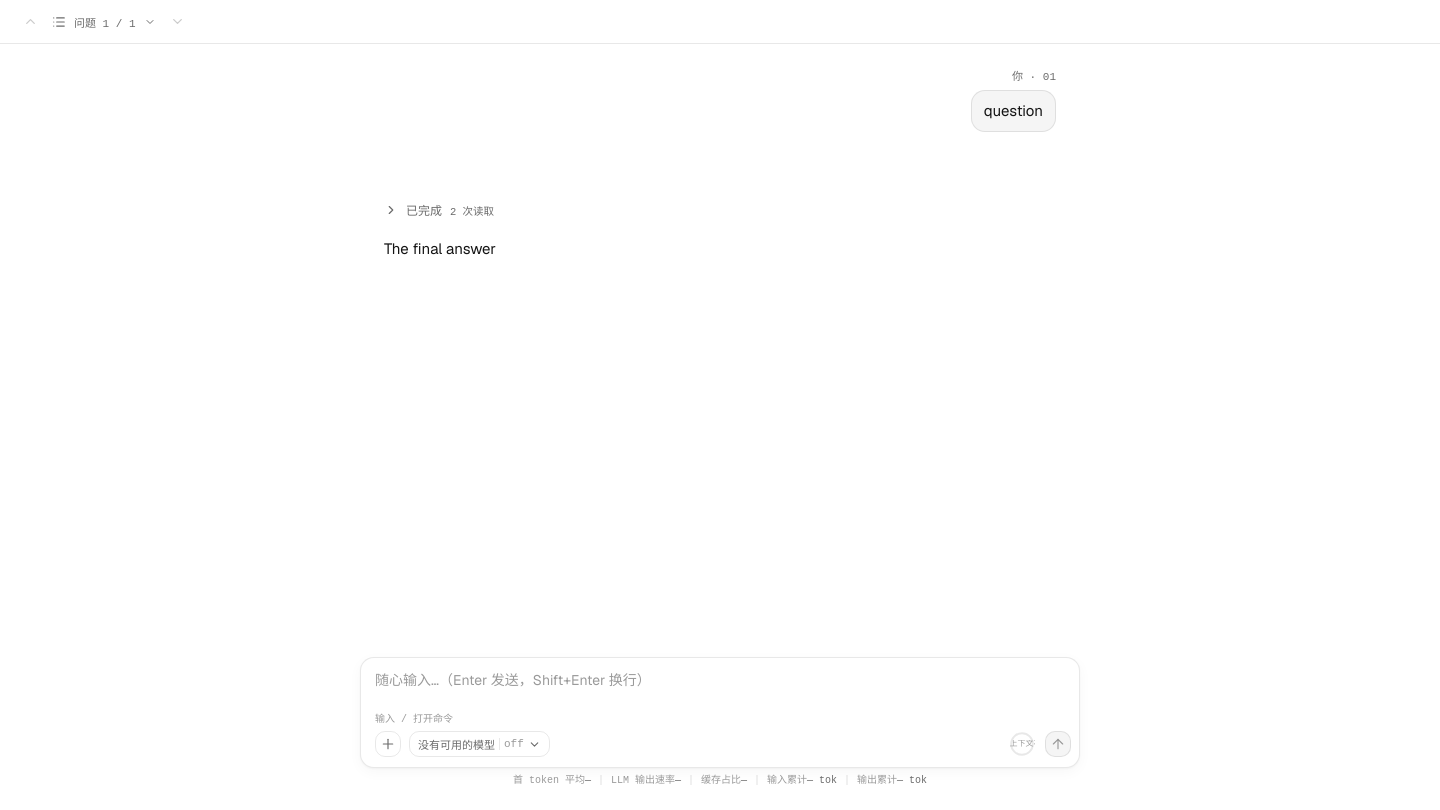
Test case: ChatView turn and approval controls › renders one collapsed process for interleaved tools and leaves the final answer readable
Click the button "已完成 2 次读取" at (424, 211), box [384,196,1056,224]
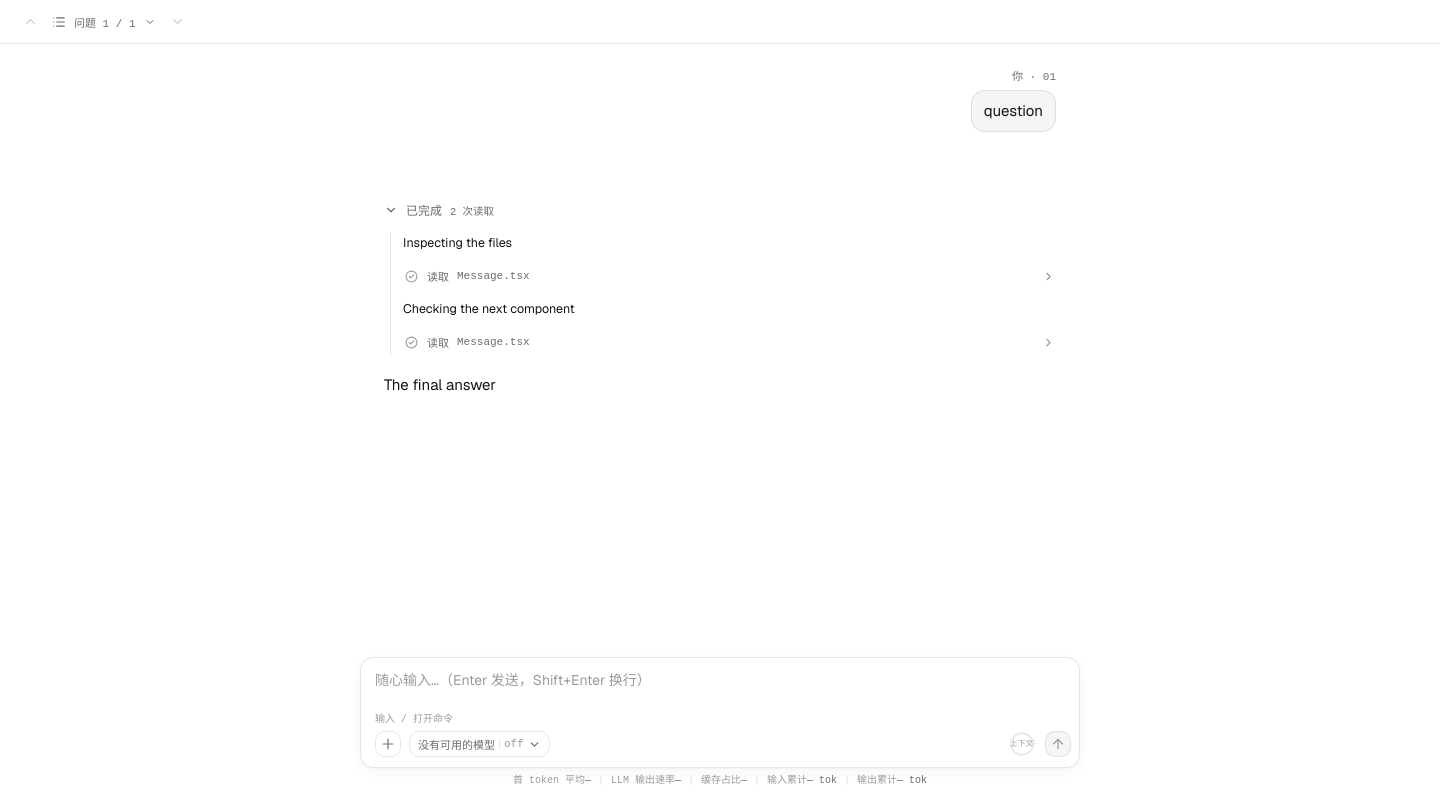
expect the button "已完成 2 次读取" is expanded: met, box [384,196,1056,224]
